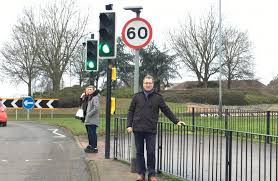Speed_limit_60km: (121, 17, 154, 48)
